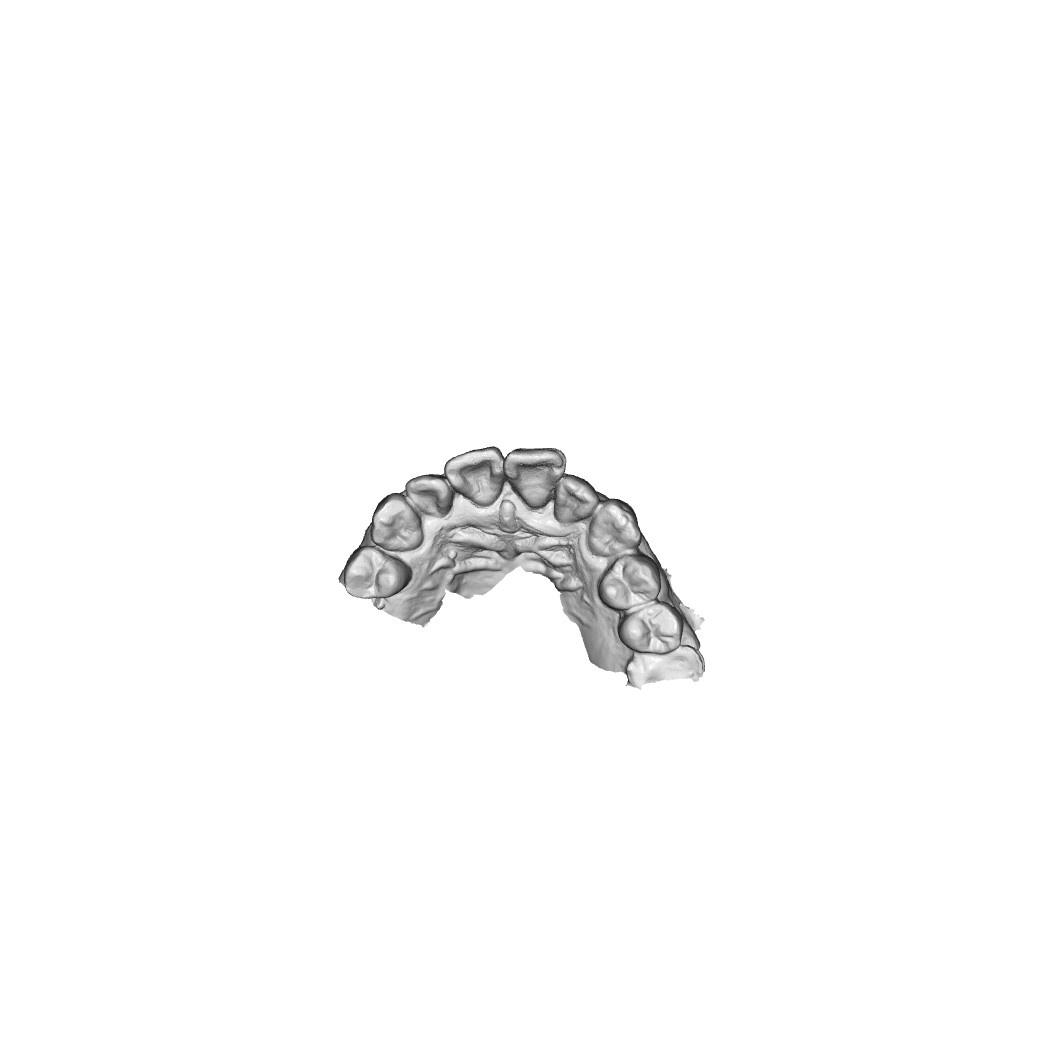canine: (370, 495, 424, 550), (589, 502, 642, 557)
incisor: (507, 449, 567, 511), (444, 446, 504, 507), (405, 474, 451, 519), (557, 479, 595, 524)
premolar: (339, 545, 417, 601), (592, 552, 662, 611), (616, 601, 683, 655)
